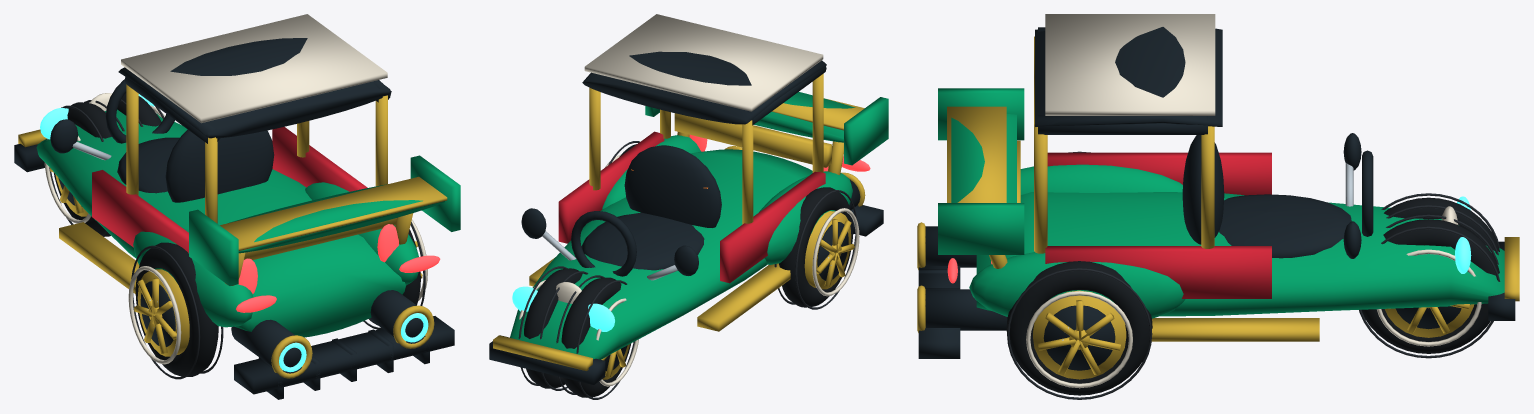
Rendered from kart_race_tuk.glb.
The picture shows the model from 3 angles, left to right: view 1: azimuth 30°, elevation 25°; view 2: azimuth 150°, elevation 25°; view 3: azimuth 270°, elevation 25°; orthographic projection. The views are drawn at different scales.
Visible parts, largest first — view 1: body, wheel-back-left, wheel-front-left, wheel-back-right, wheel-front-right; view 2: body, wheel-back-left, wheel-front-left, wheel-front-right; view 3: body, wheel-back-right, wheel-front-right, wheel-front-left.
Part boxes in pixels (x1,y1,x2,y2): body: (14,14,460,399); wheel-back-left: (128,242,223,379); wheel-front-left: (44,100,124,236); wheel-back-right: (363,219,427,329); wheel-front-right: (117,93,165,126); body: (489,14,888,384); wheel-back-left: (774,187,859,309); wheel-front-left: (556,275,638,399); wheel-front-right: (518,266,588,390); body: (917,14,1519,358); wheel-back-right: (1006,261,1152,399); wheel-front-right: (1359,214,1500,358); wheel-front-left: (1381,193,1500,255).
Bounding box in the file's own units: 2.06 × 2.1 × 4.04.
